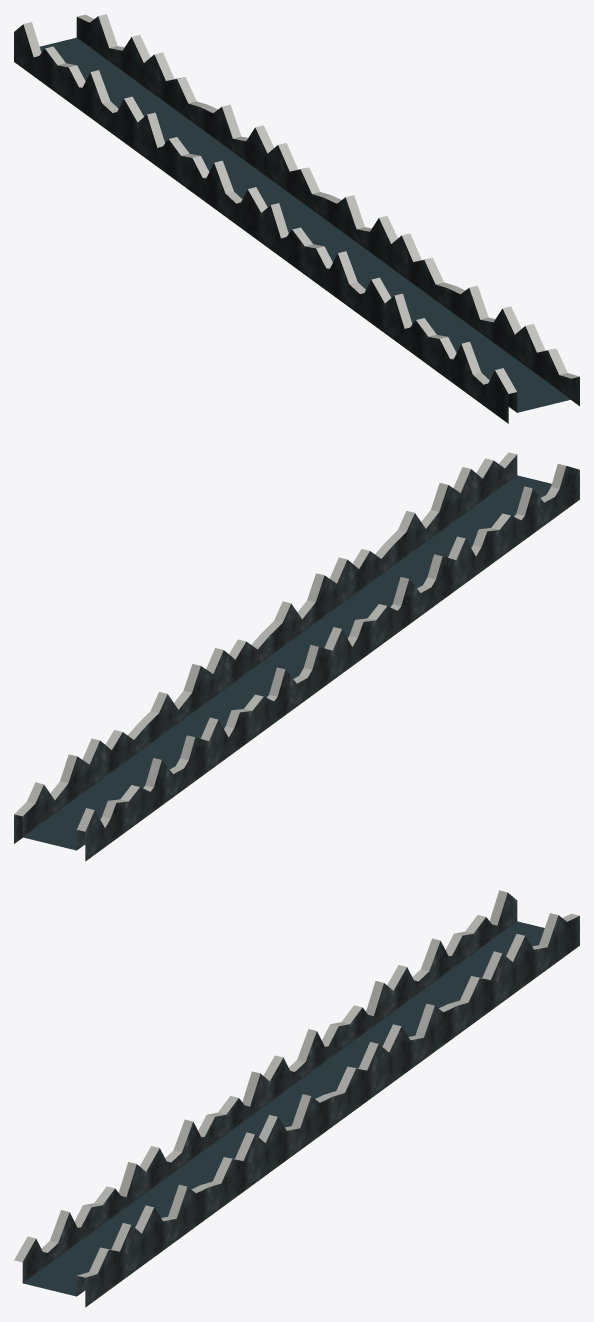
The model's file is OT_046_broken_wall_deco_var5.glb.
3 renders of one model, top to bottom at view 1: azimuth 30°, elevation 25°; view 2: azimuth 150°, elevation 25°; view 3: azimuth 330°, elevation 25°, orthographic.
Parts seen in each view (by area): view 1: broken_wall.001, broken_wall.004, broken_wall.005, broken_wall; view 2: broken_wall.005, broken_wall, broken_wall.001, broken_wall.004; view 3: broken_wall.001, broken_wall.004, broken_wall.005, broken_wall.
Boxes of the visible parts, <box> form: broken_wall.001: <box>385,285,579,423</box>; broken_wall.004: <box>137,104,331,242</box>; broken_wall.005: <box>14,14,208,151</box>; broken_wall: <box>261,195,455,332</box>; broken_wall.005: <box>14,724,208,861</box>; broken_wall: <box>261,543,456,680</box>; broken_wall.001: <box>385,452,579,589</box>; broken_wall.004: <box>138,633,332,770</box>; broken_wall.001: <box>14,1162,208,1307</box>; broken_wall.004: <box>263,981,456,1126</box>; broken_wall.005: <box>387,890,579,1035</box>; broken_wall: <box>139,1071,332,1216</box>.
Size of the model in its own units: 0.75 by 0.5008 by 9.
3 materials, 1 textured.
